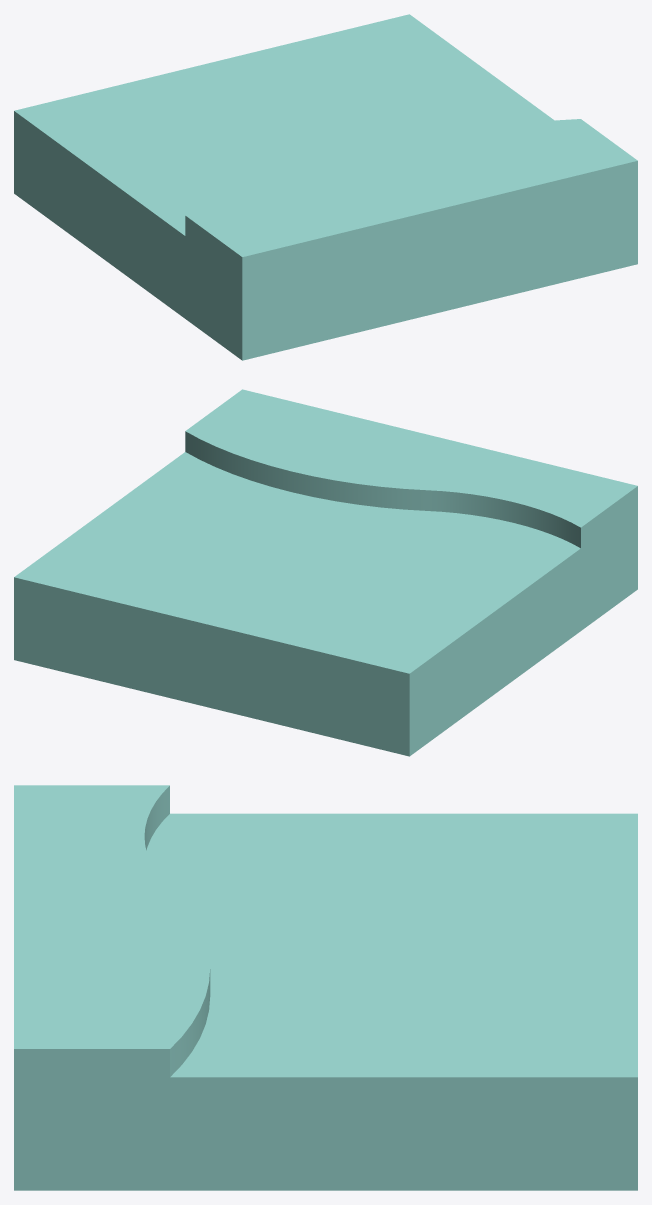
The model's file is ground_dirtRiverSide.fbx.
3 renders of one model, top to bottom at view 1: azimuth 30°, elevation 25°; view 2: azimuth 150°, elevation 25°; view 3: azimuth 270°, elevation 25°, orthographic. The views are drawn at different scales.
Visible parts, largest first — view 1: ground_dirtRiverSide; view 2: ground_dirtRiverSide; view 3: ground_dirtRiverSide.
Boxes of the visible parts, left/top/right/bottom form: ground_dirtRiverSide: left=14, top=14, right=637, bottom=360; ground_dirtRiverSide: left=14, top=389, right=637, bottom=756; ground_dirtRiverSide: left=14, top=785, right=637, bottom=1190.
Size of the model in its own units: 300 by 75 by 300.
